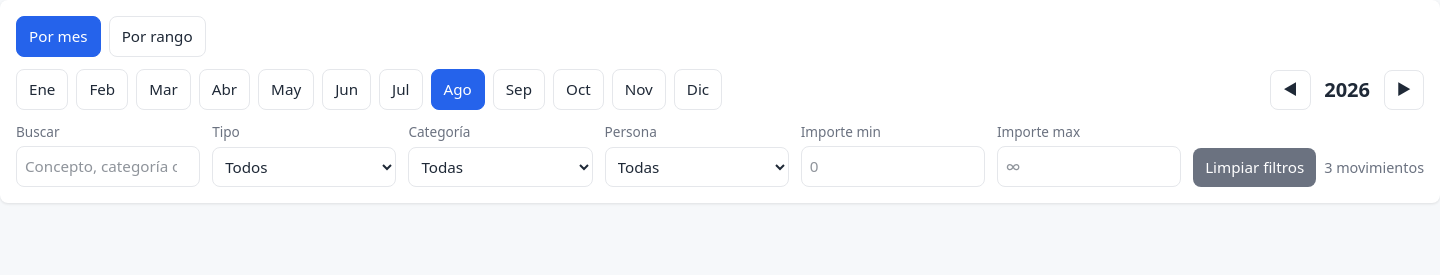
Test: TransactionFiltersBar › warns when the minimum exceeds the maximum
The image size is (1440, 275).
Type "99" into the field labelled "Importe min".
click(893, 166); type("99")  # box [801,146,985,187]
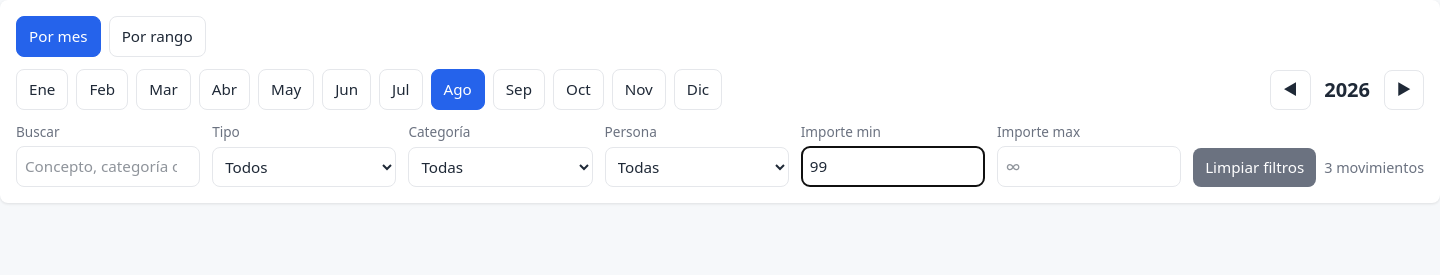
Type "9" into the field labelled "Importe max".
click(1089, 166); type("9")  # box [997,146,1181,187]
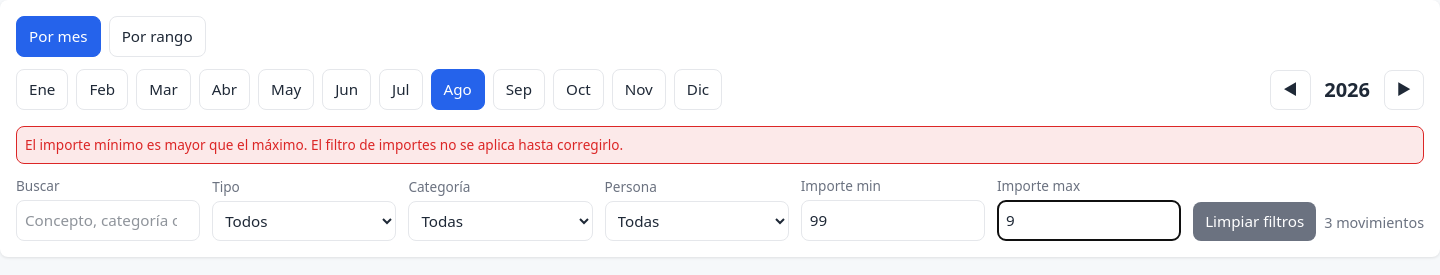
Check: the message shows "mínimo es mayor que el máximo", box [25,135,623,154]
